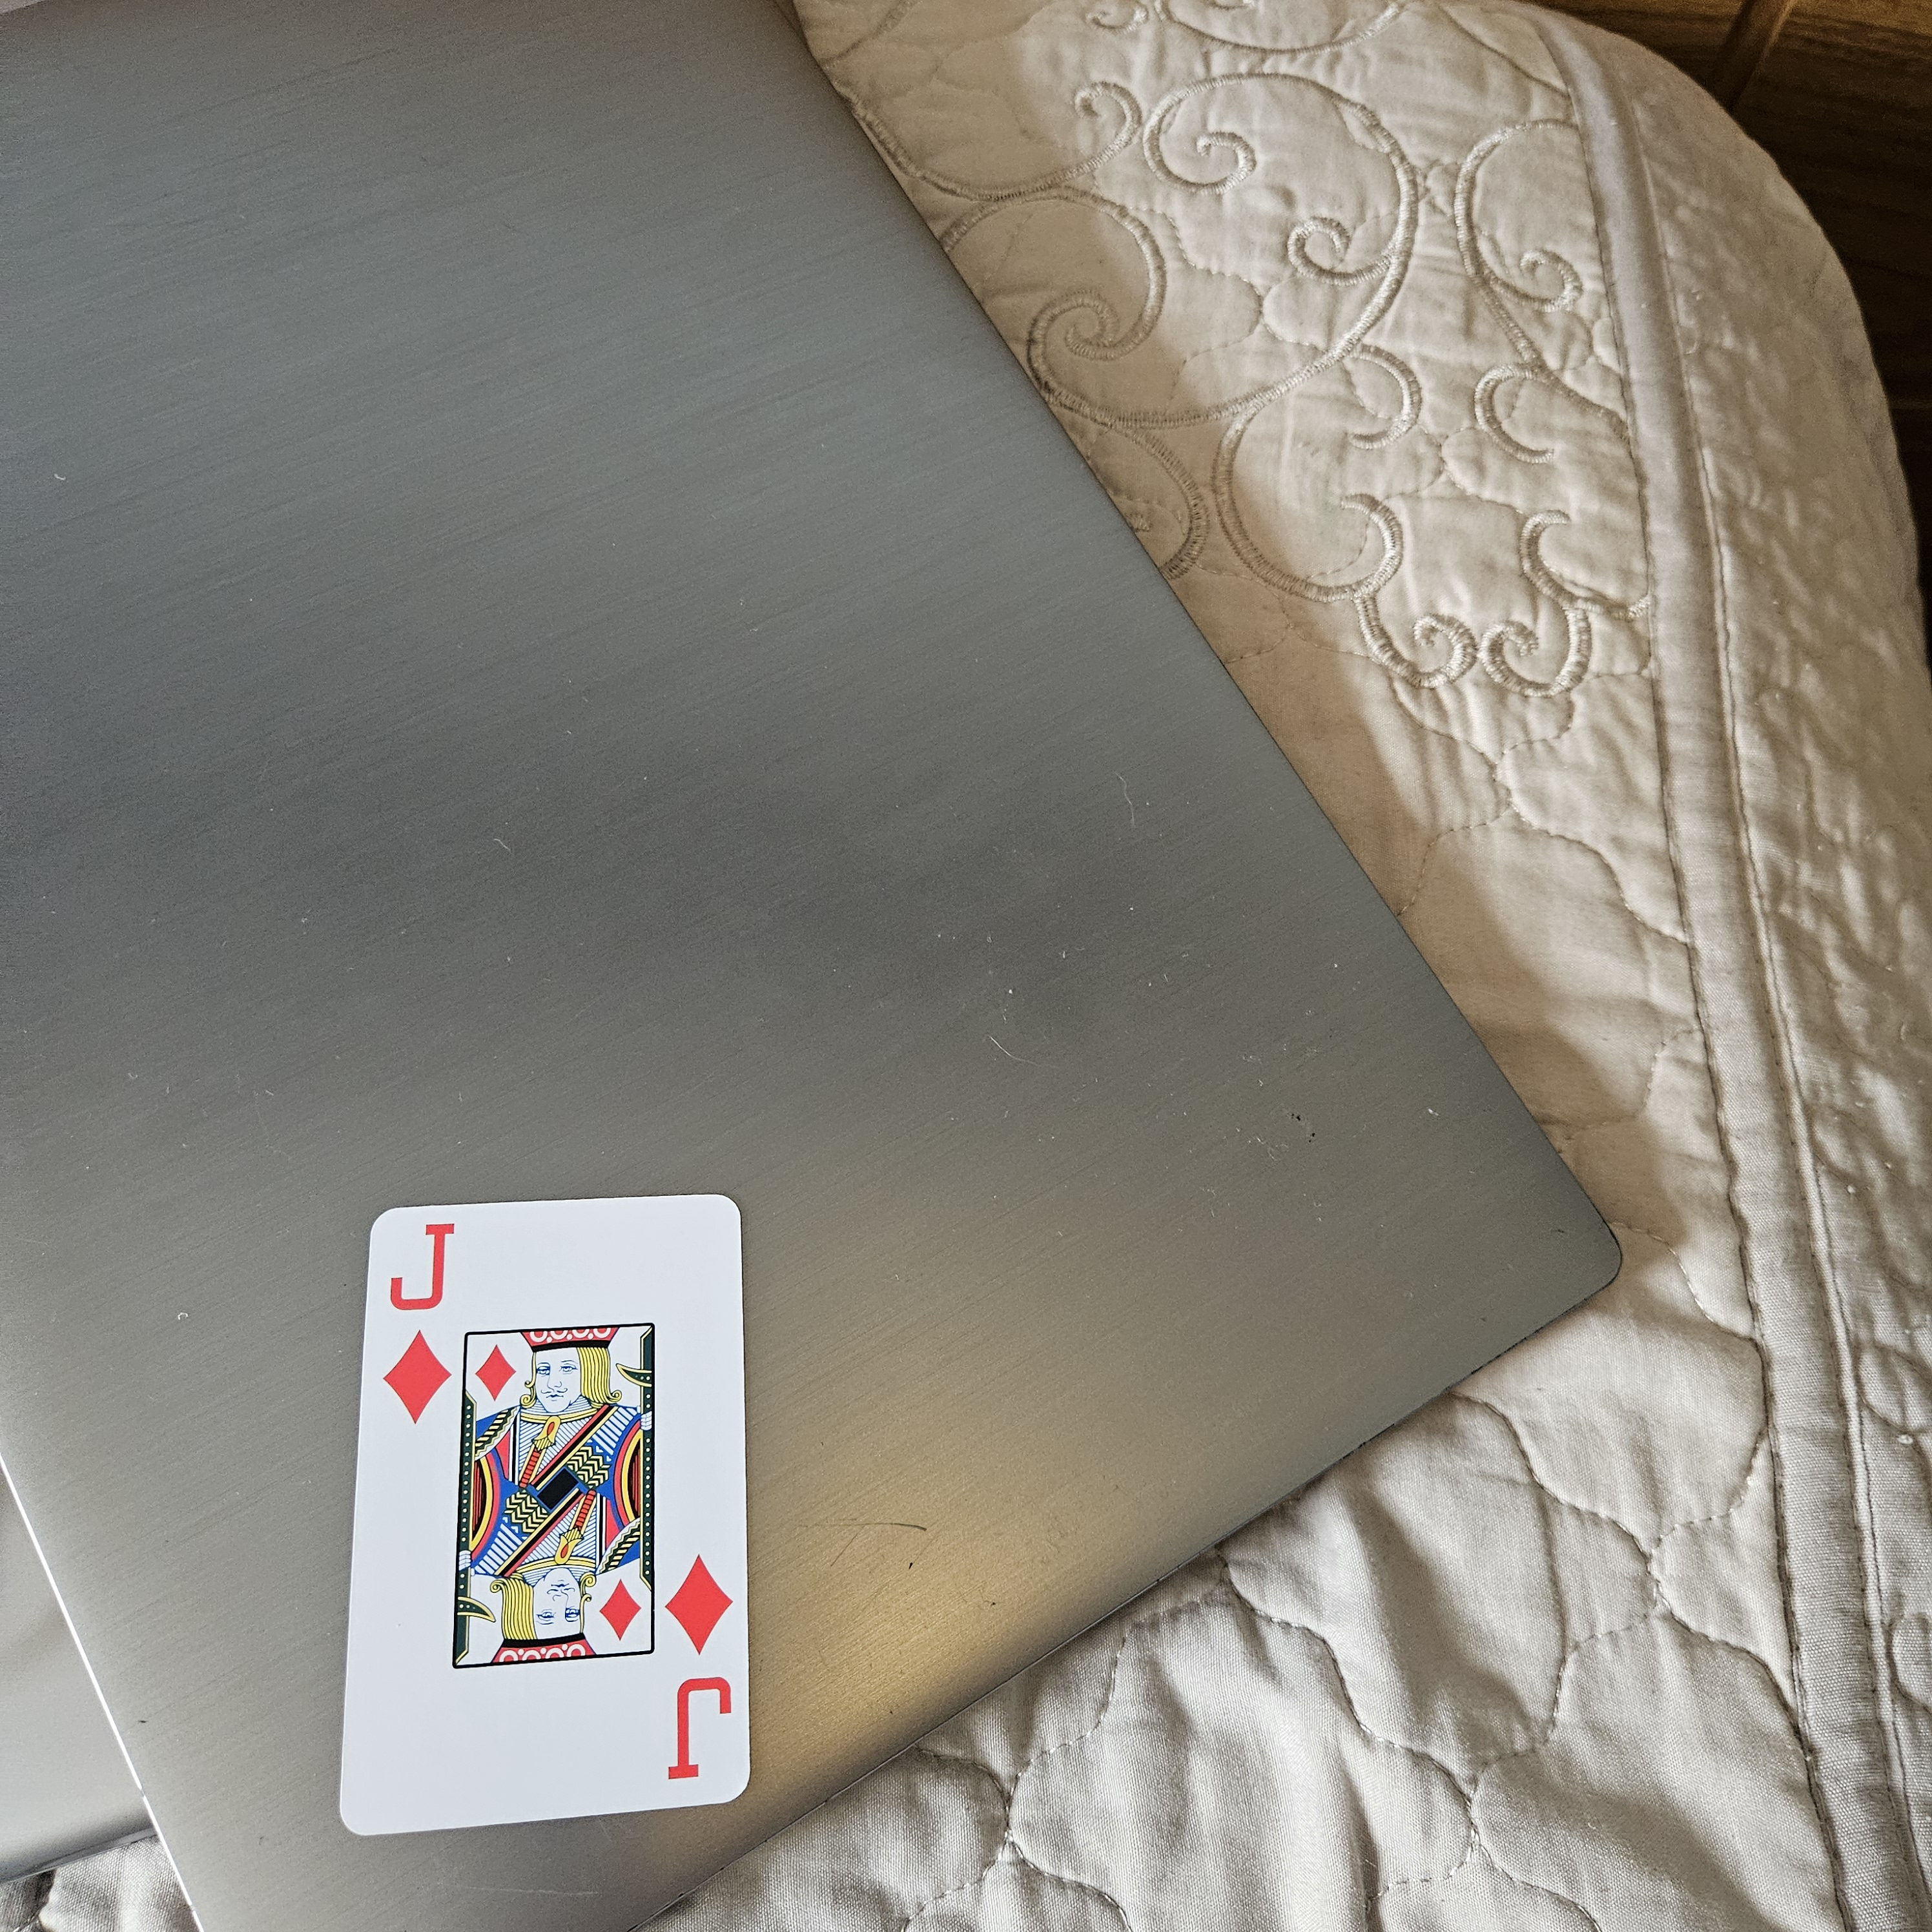JO: (651, 1541, 748, 1787), (366, 1210, 465, 1433)
